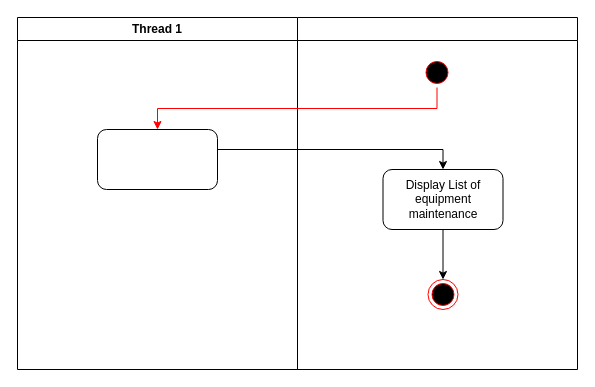
Image size: 595x387. Some labels were removed from this diagram. The shapes that lost their labels are listed below. From the top down, each one's box as (x1, y1, x2, y2) in pixels, then its label:
(96, 128, 218, 190): Equipment Maintenance list opened
(296, 16, 578, 370): Thread 2
